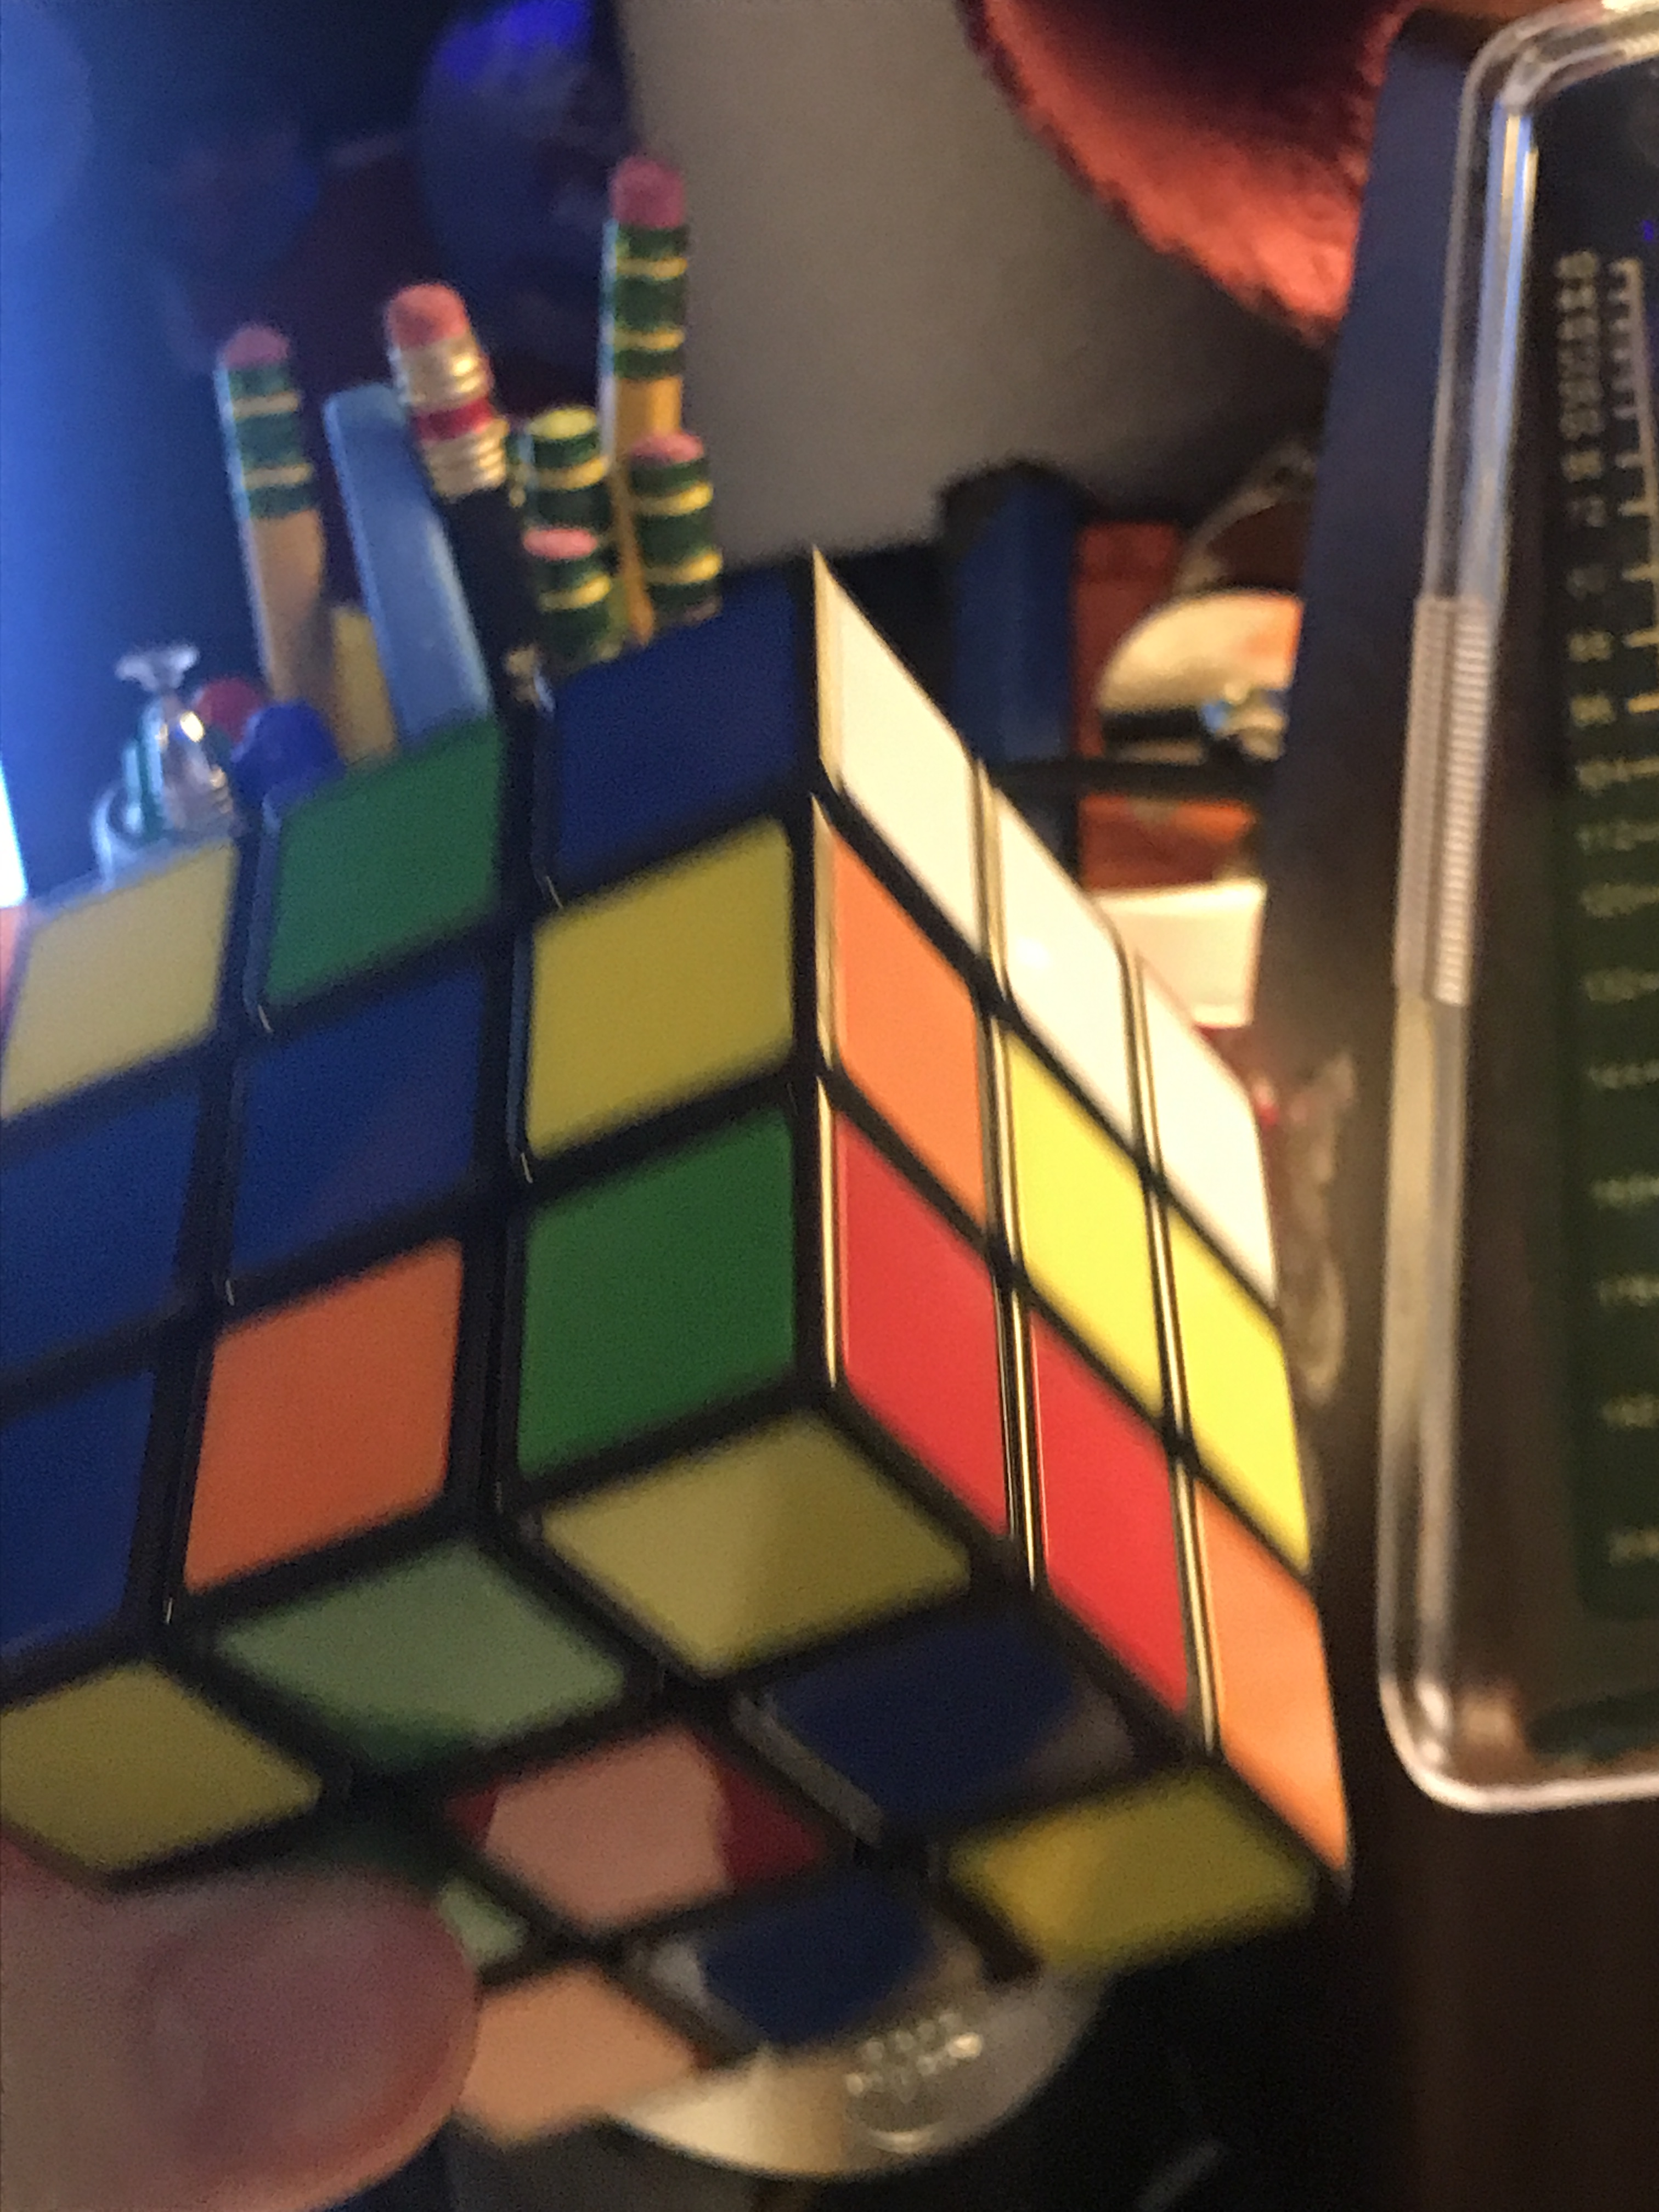rubiks: (28, 552, 1371, 2156)
